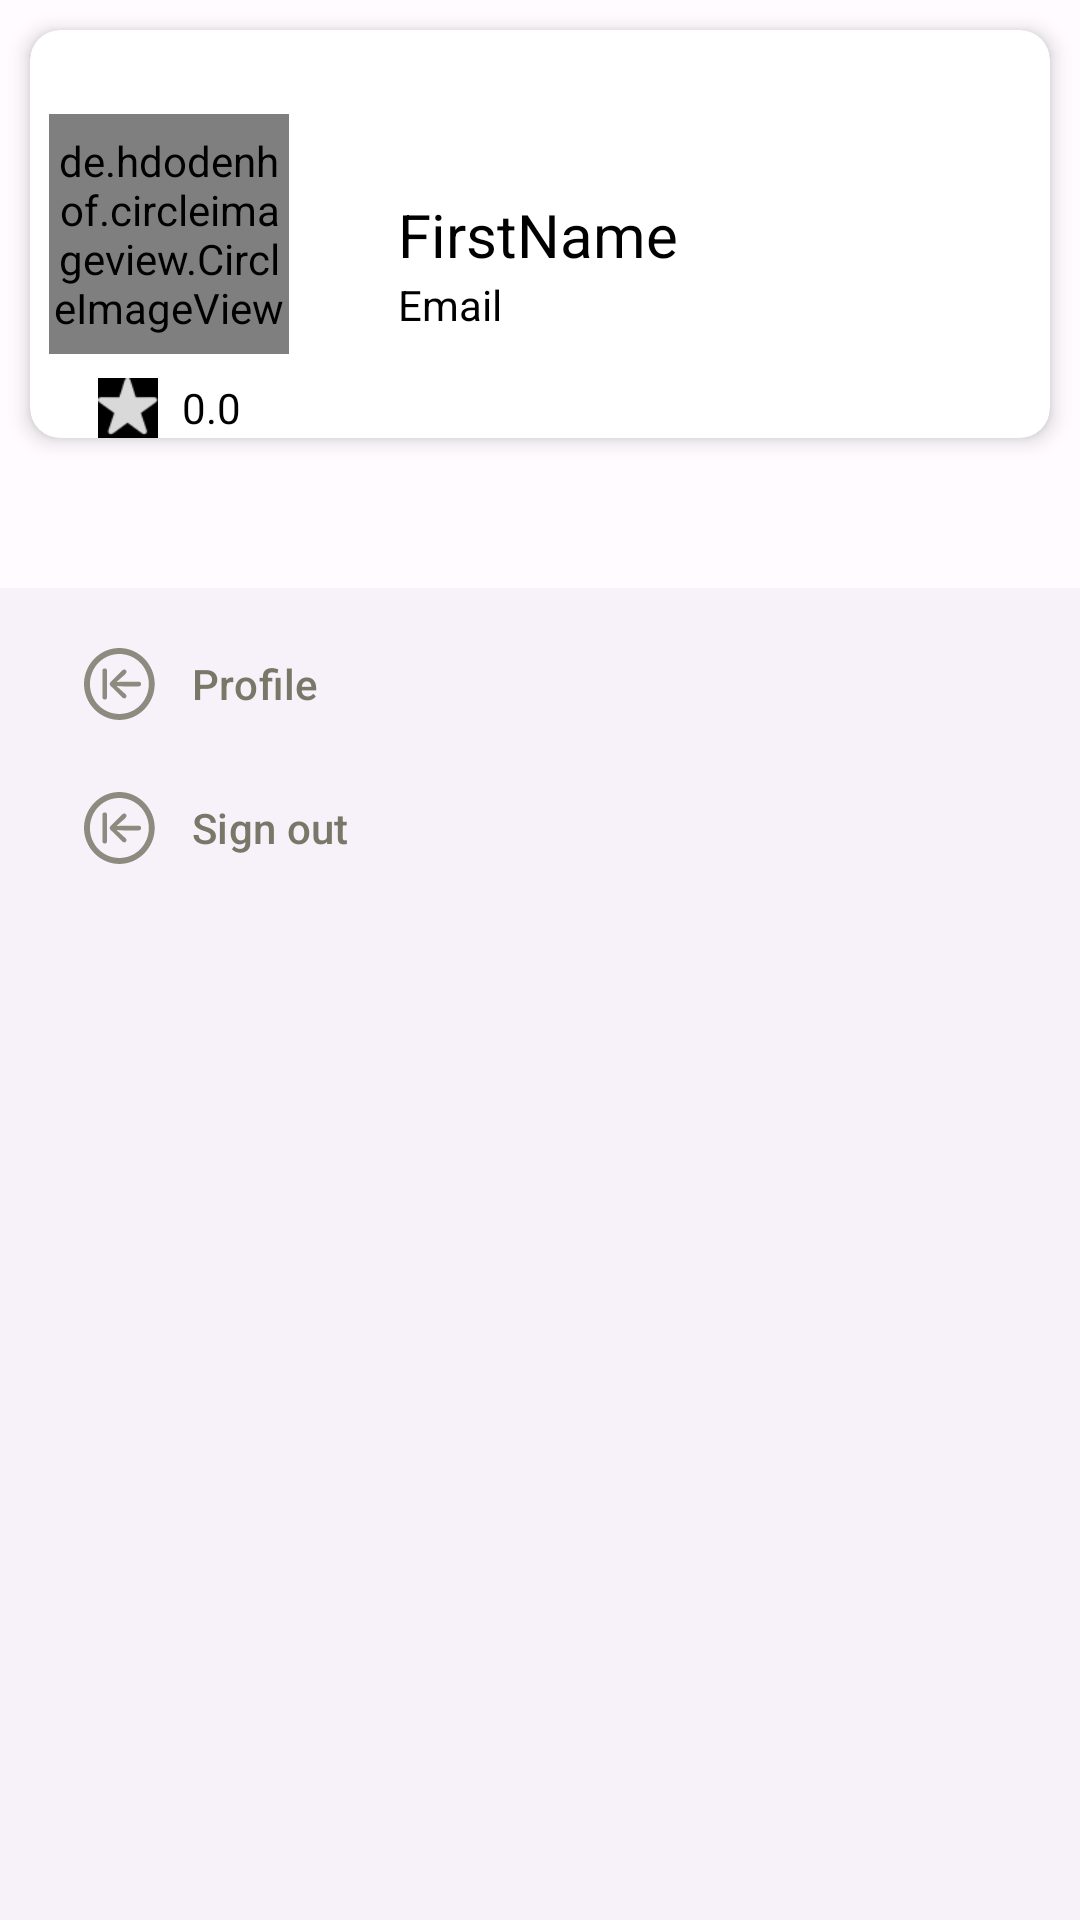

Icons on this 1080w x 1920h Android screen, each with its box as (x1, y1, x2, y2):
Nav header rating: (98, 378, 158, 438)
